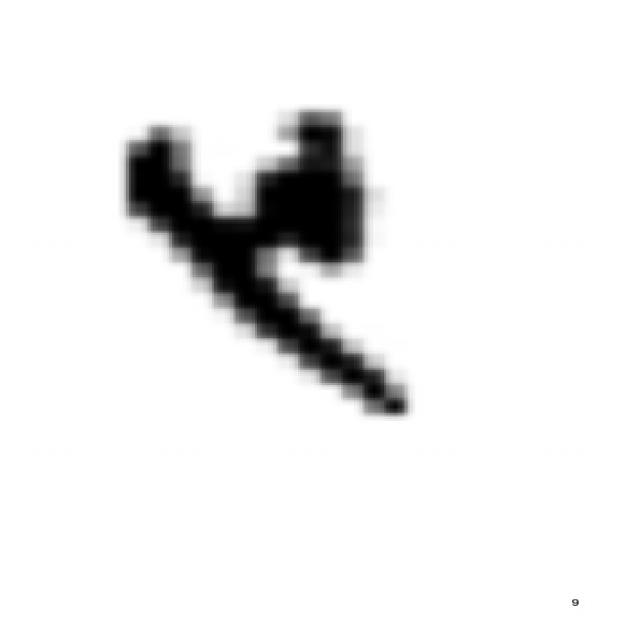3 -three-: (94, 90, 435, 433)
